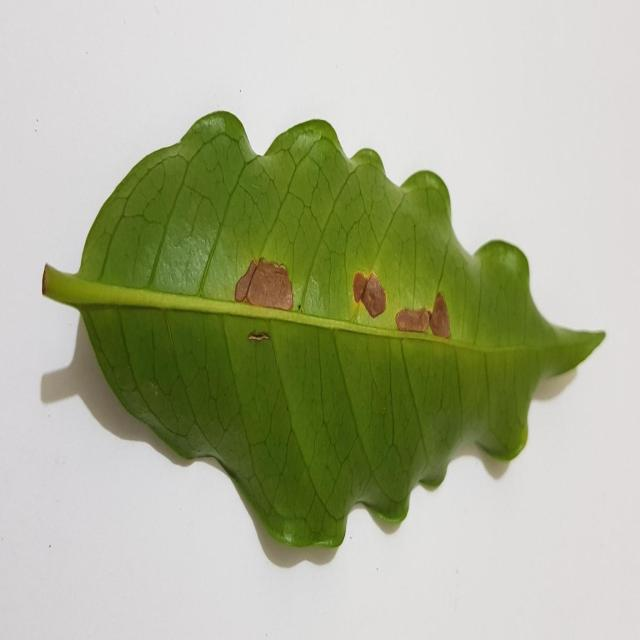Plaga-Minador: (41, 111, 605, 569)
